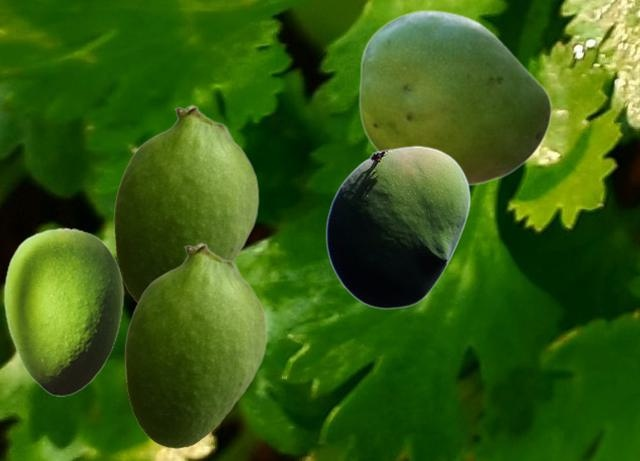green_mango: (358, 9, 551, 186), (124, 242, 266, 447), (113, 104, 258, 303), (325, 145, 470, 308), (3, 227, 123, 395)
